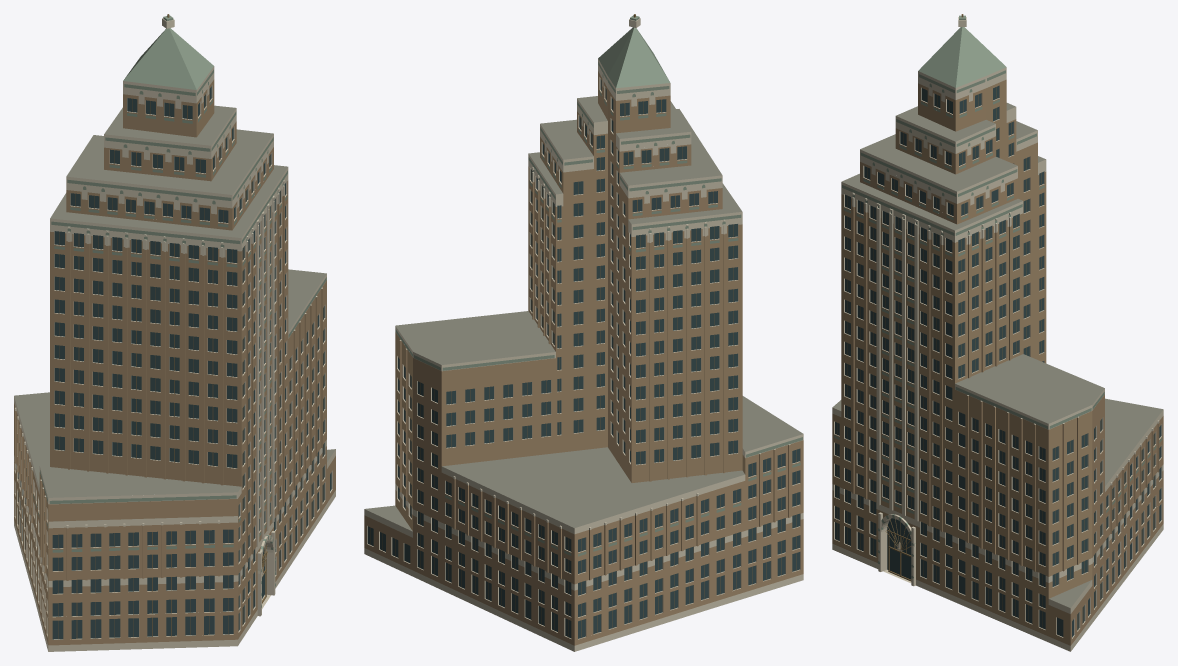
The model's file is marine-building-near.glb.
3 views of the same model, side by side, from view 1: azimuth 30°, elevation 25°; view 2: azimuth 150°, elevation 25°; view 3: azimuth 270°, elevation 25° (orthographic). The views are drawn at different scales.
Parts seen in each view (by area): view 1: marine-building-0-brick, marine-building-0-stone, marine-building-0-glass, marine-building-0-roof, marine-building-0-green, marine-building-0-glow, marine-building-0-bronze; view 2: marine-building-0-brick, marine-building-0-glass, marine-building-0-stone, marine-building-0-roof, marine-building-0-green, marine-building-0-glow, marine-building-0-bronze; view 3: marine-building-0-brick, marine-building-0-stone, marine-building-0-glass, marine-building-0-roof, marine-building-0-green, marine-building-0-glow, marine-building-0-bronze.
Boxes of the visible parts, <box> form: marine-building-0-brick: <box>14,79,335,645</box>; marine-building-0-stone: <box>14,18,335,651</box>; marine-building-0-glass: <box>18,94,324,639</box>; marine-building-0-roof: <box>14,105,335,521</box>; marine-building-0-green: <box>17,15,326,607</box>; marine-building-0-glow: <box>18,86,331,638</box>; marine-building-0-bronze: <box>48,14,323,639</box>; marine-building-0-brick: <box>364,71,803,645</box>; marine-building-0-glass: <box>367,79,799,638</box>; marine-building-0-stone: <box>364,18,803,651</box>; marine-building-0-roof: <box>365,96,803,531</box>; marine-building-0-green: <box>395,15,802,556</box>; marine-building-0-glow: <box>398,87,799,638</box>; marine-building-0-bronze: <box>370,14,796,637</box>; marine-building-0-brick: <box>832,79,1163,645</box>; marine-building-0-stone: <box>832,17,1163,651</box>; marine-building-0-glass: <box>835,88,1161,637</box>; marine-building-0-roof: <box>832,103,1163,607</box>; marine-building-0-green: <box>834,15,1162,578</box>; marine-building-0-glow: <box>835,86,1161,636</box>; marine-building-0-bronze: <box>837,14,1154,629</box>.
Size of the model in its own units: 66.33 by 98 by 54.94.
